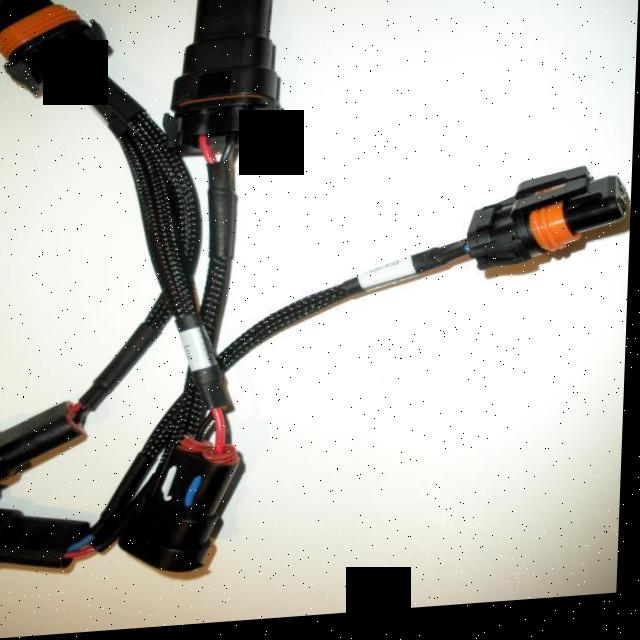connector: (164, 0, 284, 159), (470, 175, 629, 276), (0, 0, 112, 97), (0, 404, 88, 497)
